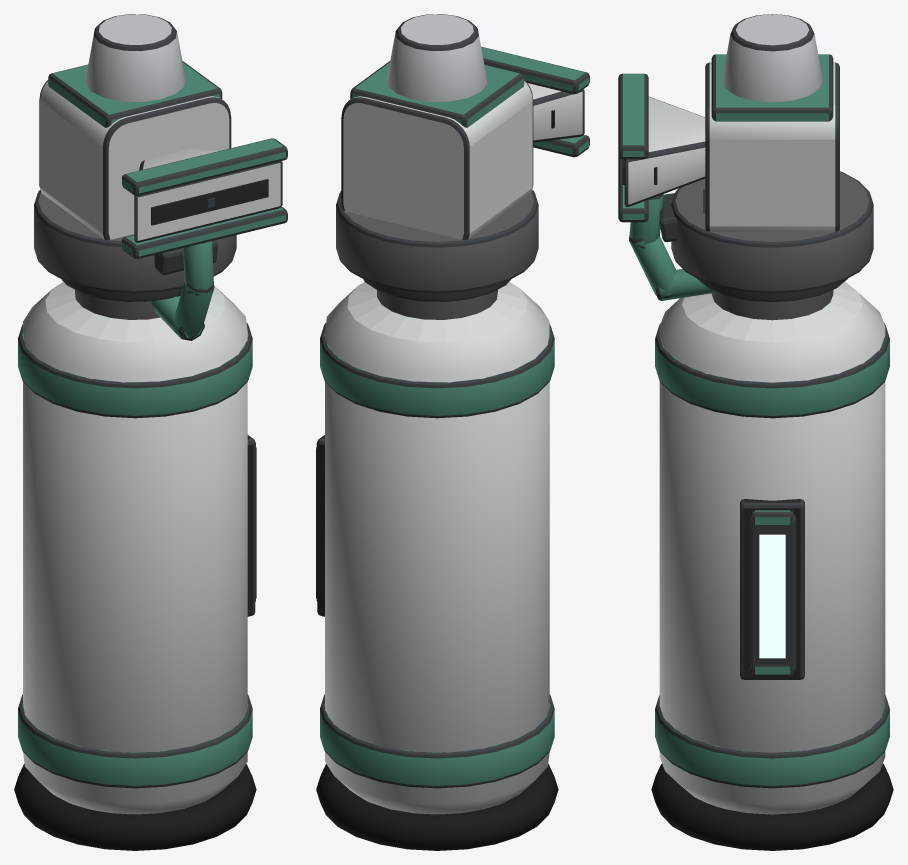
The model's file is slick_can.fbx.
3 views of the same model, side by side, from view 1: azimuth 30°, elevation 25°; view 2: azimuth 150°, elevation 25°; view 3: azimuth 270°, elevation 25° (orthographic).
Visible parts, largest first — view 1: Mesh_SlickCan_Body, Mesh_SlickCan_Head, Mesh_SlickCan_Fan, Mesh_SlickCan_Trigger, Mesh_SlickCan_Foot, Mesh_SlickCan_Cap, Mesh_SlickCan_Neck, Mesh_SlickCan_Gauge; view 2: Mesh_SlickCan_Body, Mesh_SlickCan_Head, Mesh_SlickCan_Trigger, Mesh_SlickCan_Foot, Mesh_SlickCan_Cap, Mesh_SlickCan_Fan, Mesh_SlickCan_Neck, Mesh_SlickCan_Gauge; view 3: Mesh_SlickCan_Body, Mesh_SlickCan_Head, Mesh_SlickCan_Trigger, Mesh_SlickCan_Gauge, Mesh_SlickCan_Foot, Mesh_SlickCan_Fan, Mesh_SlickCan_Cap, Mesh_SlickCan_Neck.
Boxes of the visible parts, x1=… form: Mesh_SlickCan_Body: x1=18, y1=281, x2=252, y2=814; Mesh_SlickCan_Head: x1=39, y1=61, x2=231, y2=239; Mesh_SlickCan_Fan: x1=122, y1=138, x2=287, y2=258; Mesh_SlickCan_Trigger: x1=34, y1=190, x2=236, y2=340; Mesh_SlickCan_Foot: x1=14, y1=764, x2=256, y2=850; Mesh_SlickCan_Cap: x1=85, y1=14, x2=185, y2=101; Mesh_SlickCan_Neck: x1=62, y1=279, x2=182, y2=319; Mesh_SlickCan_Gauge: x1=247, y1=435, x2=256, y2=616; Mesh_SlickCan_Body: x1=320, y1=281, x2=554, y2=814; Mesh_SlickCan_Head: x1=341, y1=61, x2=533, y2=239; Mesh_SlickCan_Trigger: x1=336, y1=190, x2=538, y2=293; Mesh_SlickCan_Foot: x1=316, y1=764, x2=558, y2=850; Mesh_SlickCan_Cap: x1=387, y1=14, x2=487, y2=101; Mesh_SlickCan_Fan: x1=481, y1=46, x2=589, y2=157; Mesh_SlickCan_Neck: x1=363, y1=279, x2=510, y2=319; Mesh_SlickCan_Gauge: x1=316, y1=435, x2=324, y2=616; Mesh_SlickCan_Body: x1=655, y1=281, x2=889, y2=814; Mesh_SlickCan_Head: x1=705, y1=54, x2=839, y2=231; Mesh_SlickCan_Trigger: x1=629, y1=171, x2=873, y2=300; Mesh_SlickCan_Gauge: x1=740, y1=499, x2=804, y2=679; Mesh_SlickCan_Foot: x1=651, y1=764, x2=893, y2=850; Mesh_SlickCan_Fan: x1=618, y1=73, x2=705, y2=222; Mesh_SlickCan_Cap: x1=722, y1=14, x2=822, y2=102; Mesh_SlickCan_Neck: x1=697, y1=278, x2=847, y2=320.
Size of the model in its own units: 11.63 by 39.5 by 12.68.
